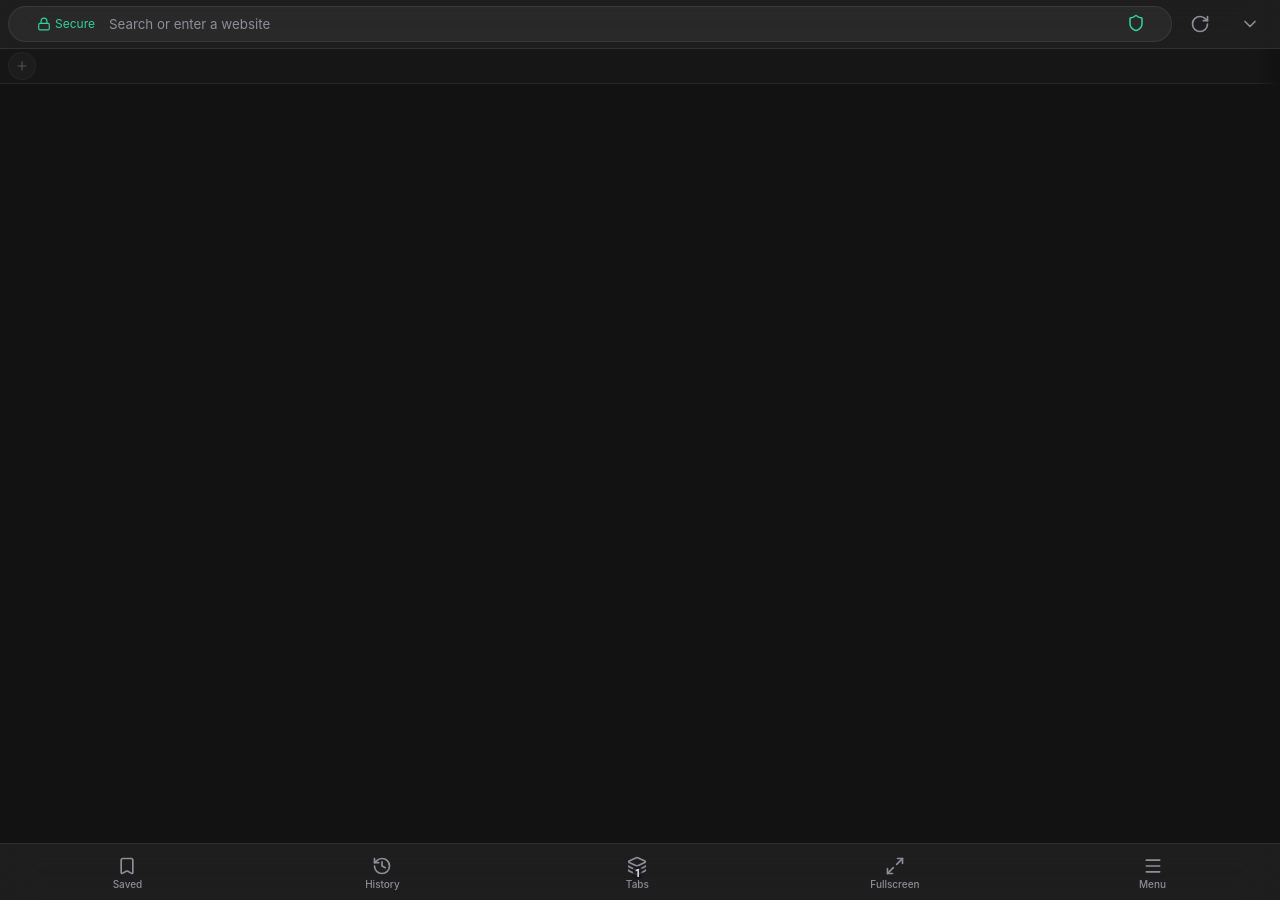
Test case: MobileApp › surfaces the core reason when a bookmark add is refused
Step 1. Click the button named "add bookmark" → click(22, 66), box [8, 52, 36, 80]
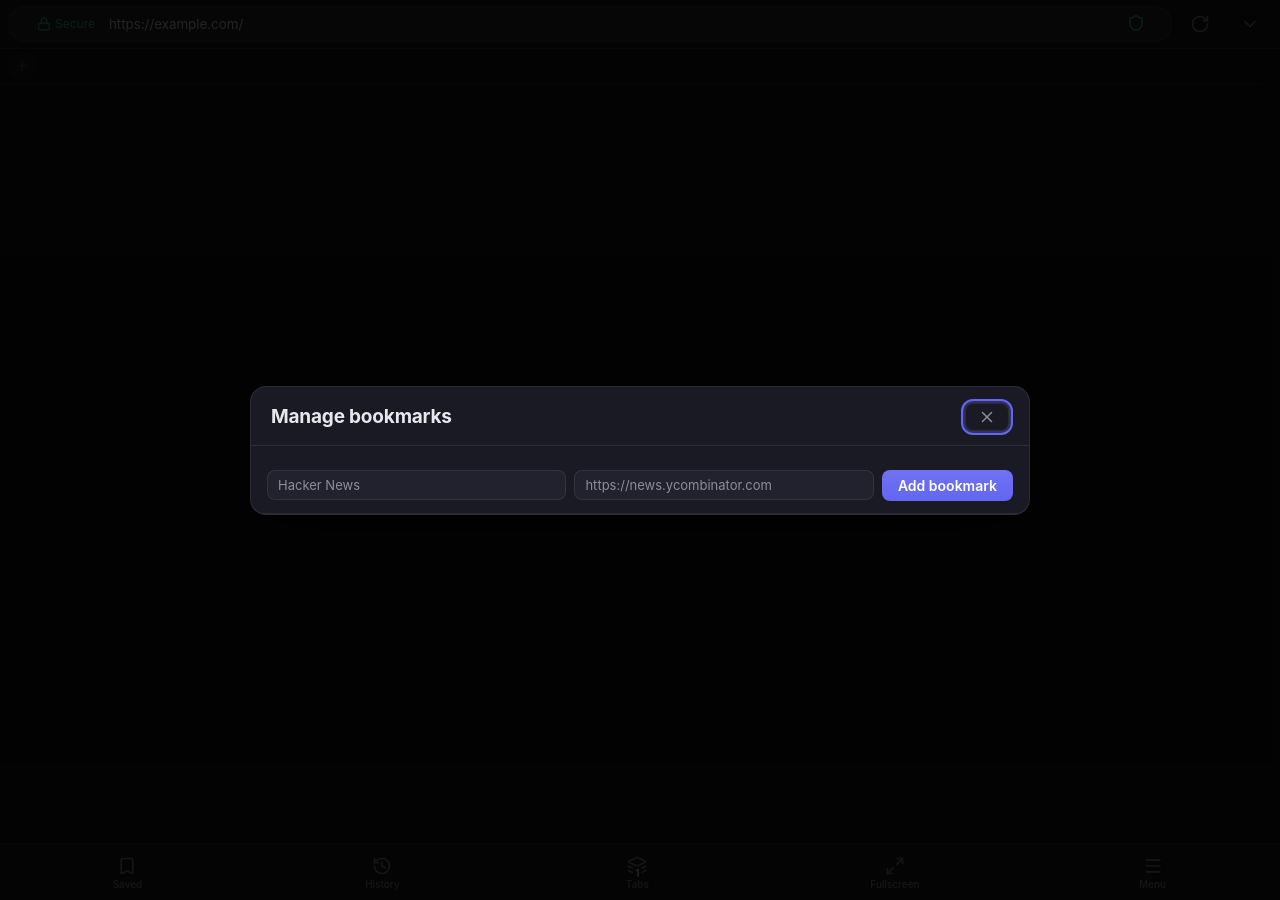
expect the dialog "Manage bookmarks Add bookmark" is shown: met, box [250, 386, 1030, 514]
Step 2. Type "Docs" into the field named "new bookmark name" → (417, 485), box [267, 470, 566, 500]
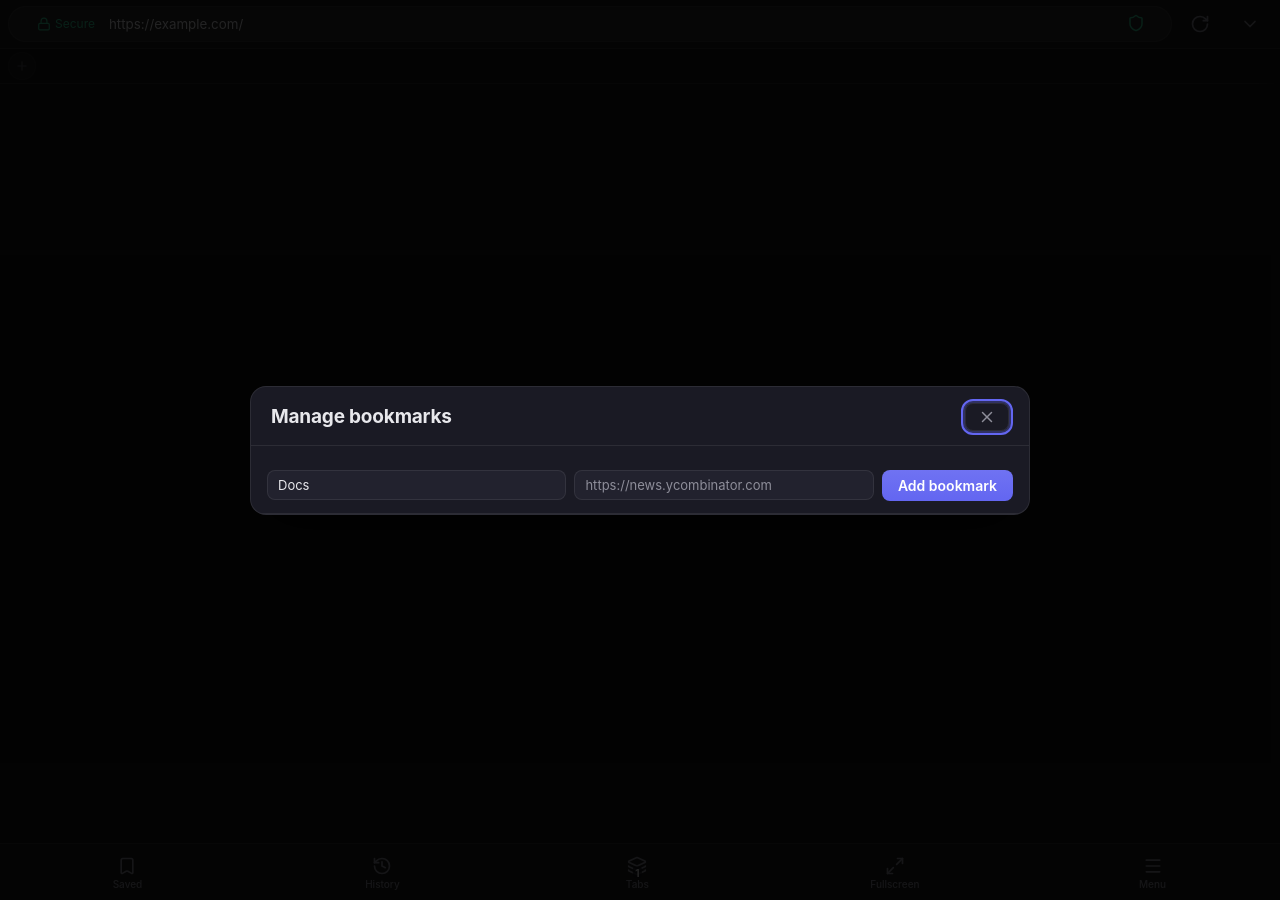
Step 3. Type "https://docs.test/" into the field named "new bookmark url" → (724, 485), box [574, 470, 874, 500]
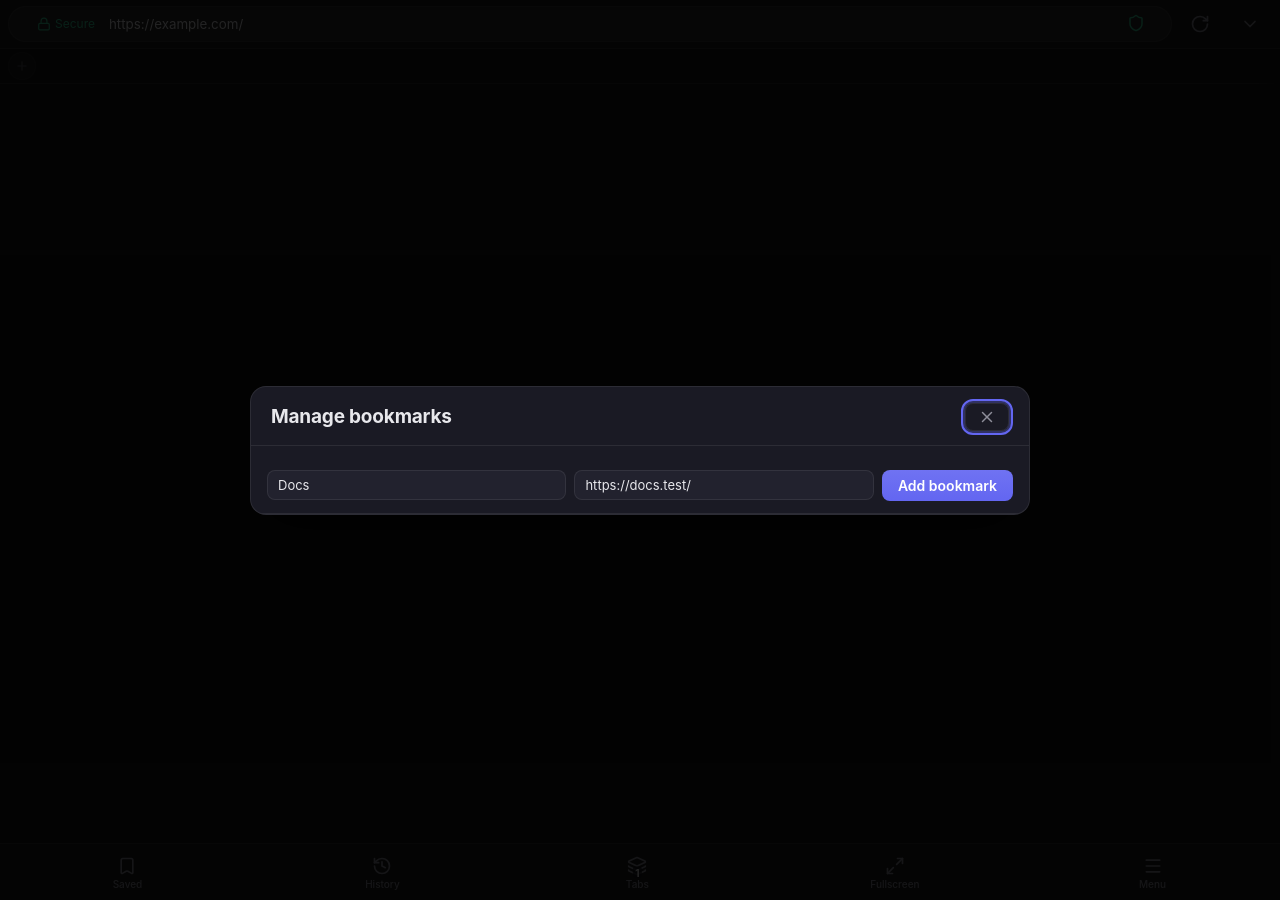
Step 4. Click the button "Add bookmark" → click(947, 485), box [882, 470, 1013, 500]
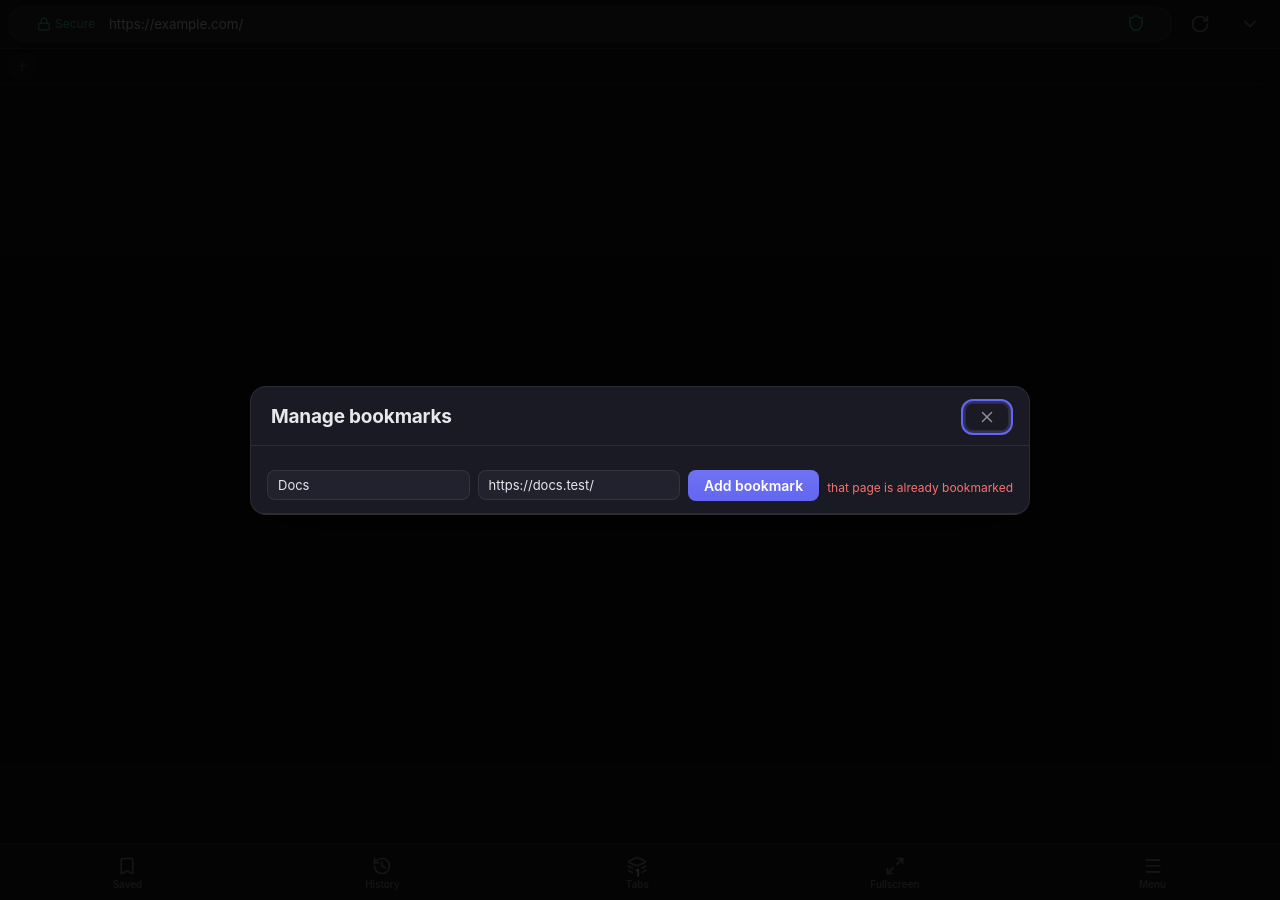
expect the text "that page is already bookmarked" is shown: met, box [827, 480, 1013, 494]
